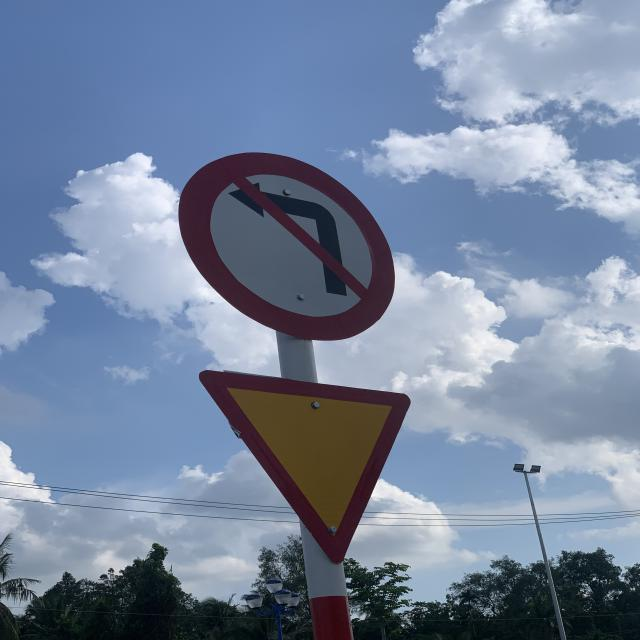Cam_Re_Trai: (176, 153, 392, 341)
Gioi_Han_Toc_Do_25: (206, 370, 409, 565)
